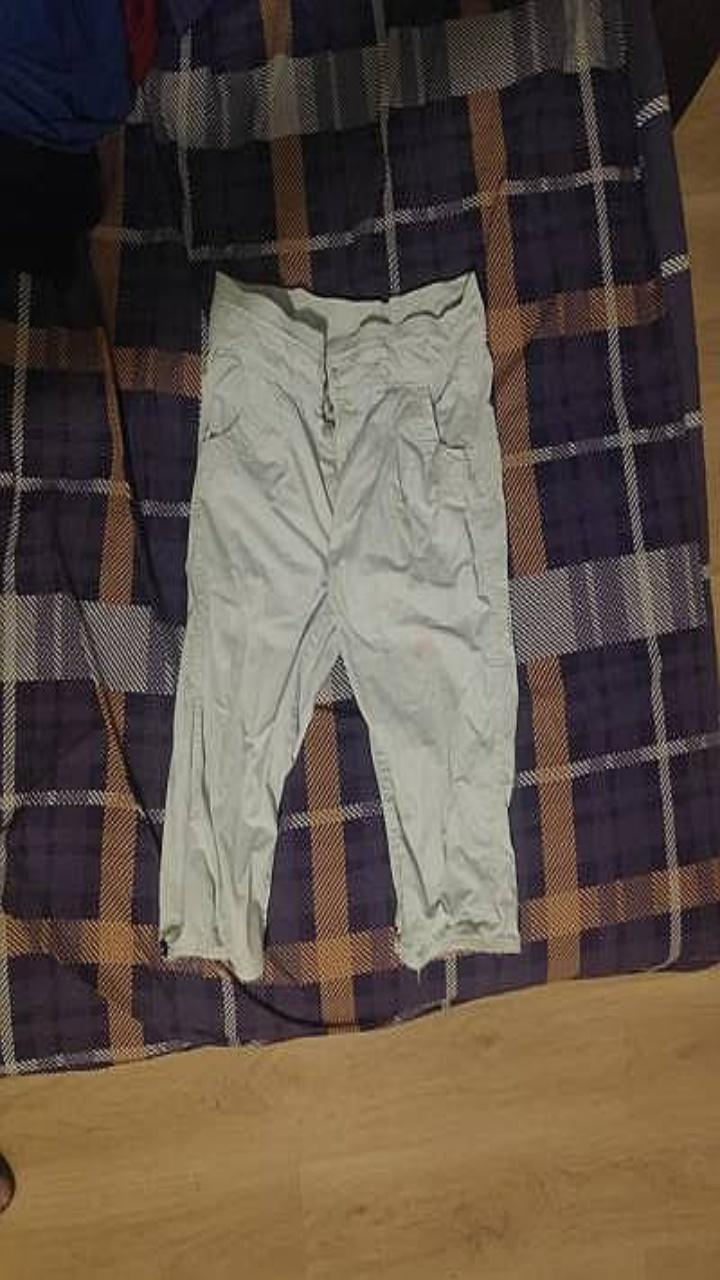Shorts: (160, 275, 518, 979)
